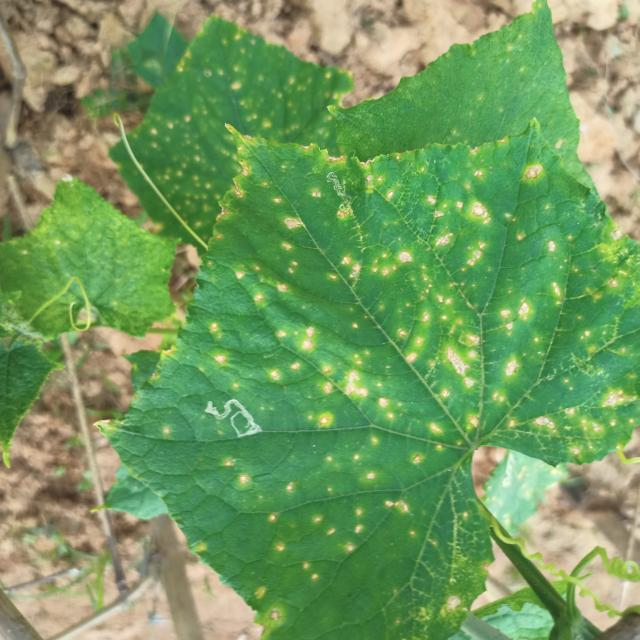disease_cucumber: (207, 140, 626, 606)
